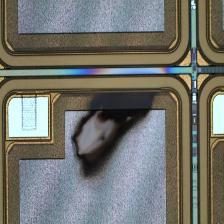BLOCK ETCH: (69, 84, 166, 186)
